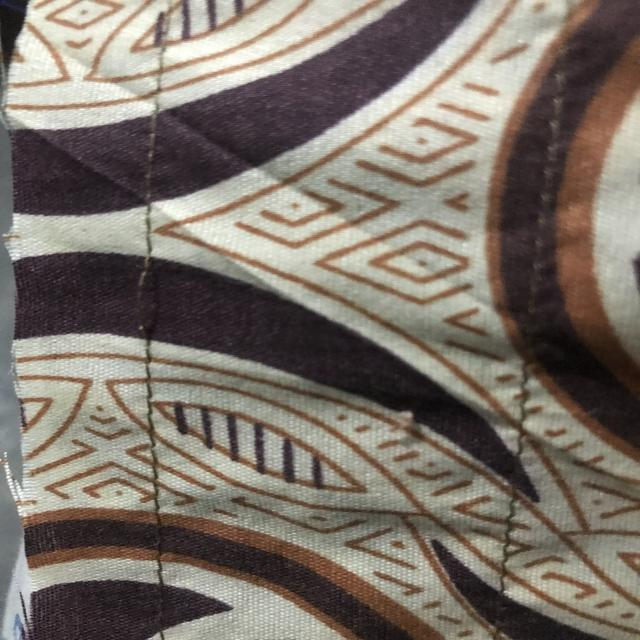good: (135, 395, 174, 510)
skip: (104, 239, 179, 351)
